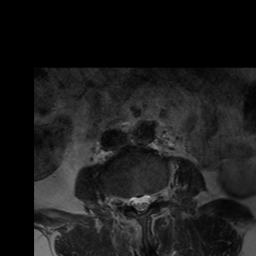CCS_normal: (137, 186, 144, 219)
LFS_normal: (153, 180, 161, 209)
LLS_normal: (144, 184, 153, 215)
RFS_normal: (120, 185, 128, 214)
RLS_normal: (128, 186, 137, 215)
